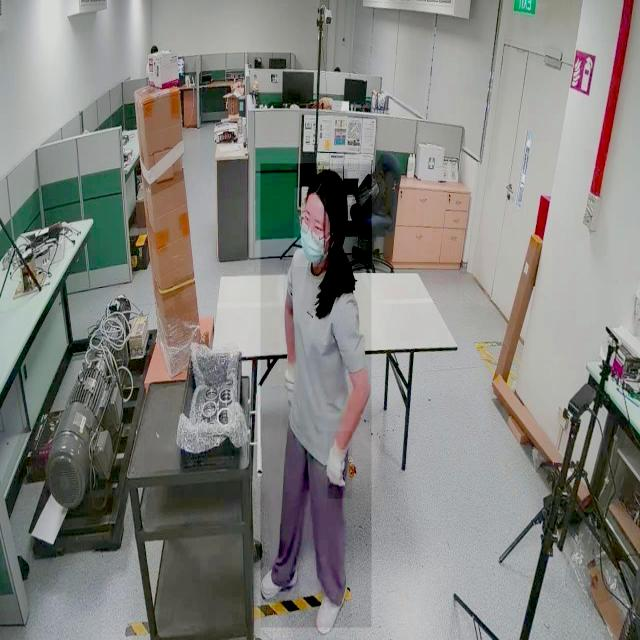face_mask: (294, 188, 336, 266)
glasses: (298, 215, 324, 245)
hand_glove: (327, 431, 352, 500)
head_nohelmet: (307, 169, 347, 195)
person: (260, 164, 372, 628)
shoes: (314, 566, 350, 634), (260, 559, 301, 603)
